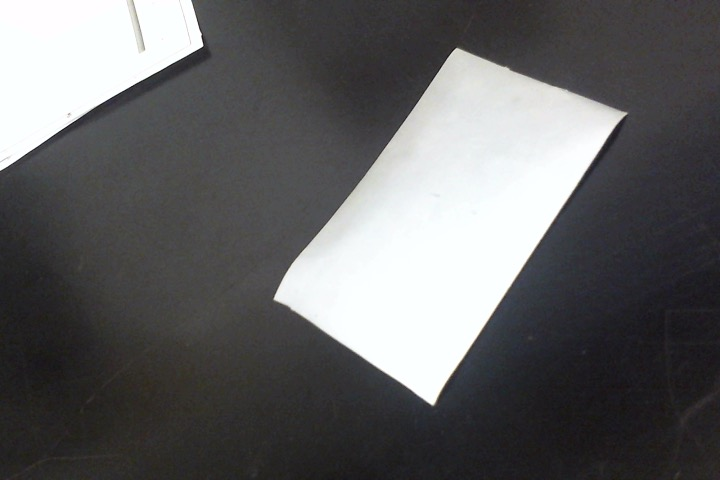Tape: (271, 46, 630, 406)
